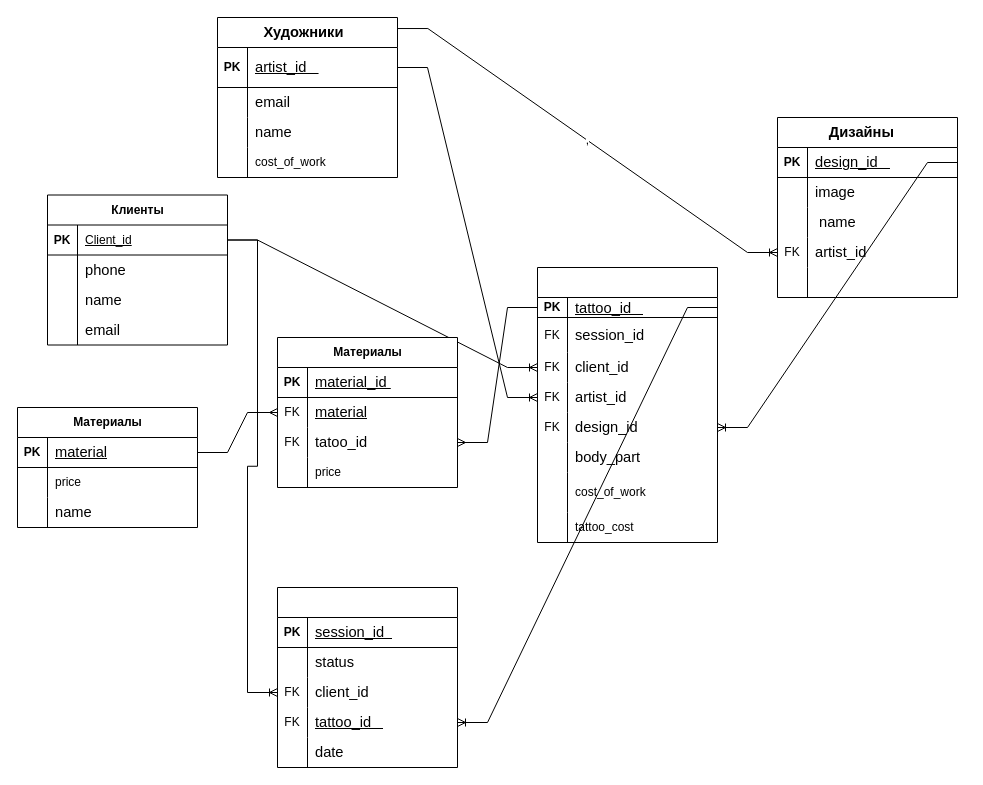
Some shapes in this 983 by 785 pixel diagram are drawn without their labels. Here are the shapes that lost their labels. From the top down, the box of each, then its label:
(536, 266, 718, 542): Татуировки
(276, 586, 458, 768): Сеансы
